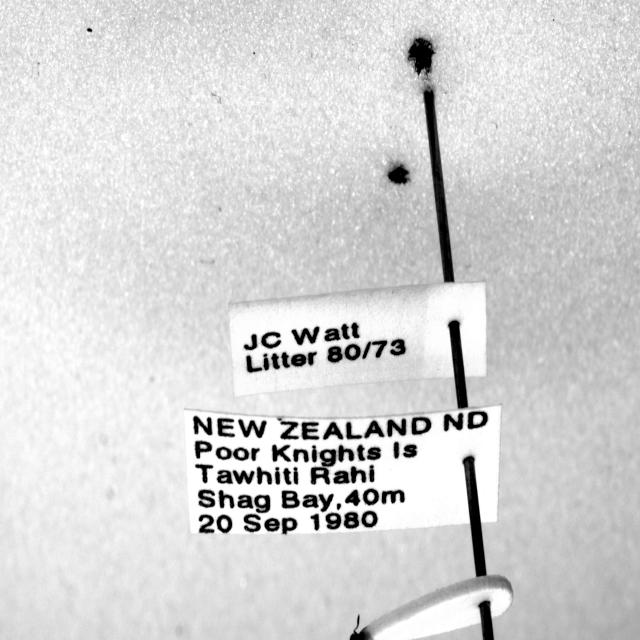typed_label: (184, 405, 501, 534), (229, 281, 486, 396)
